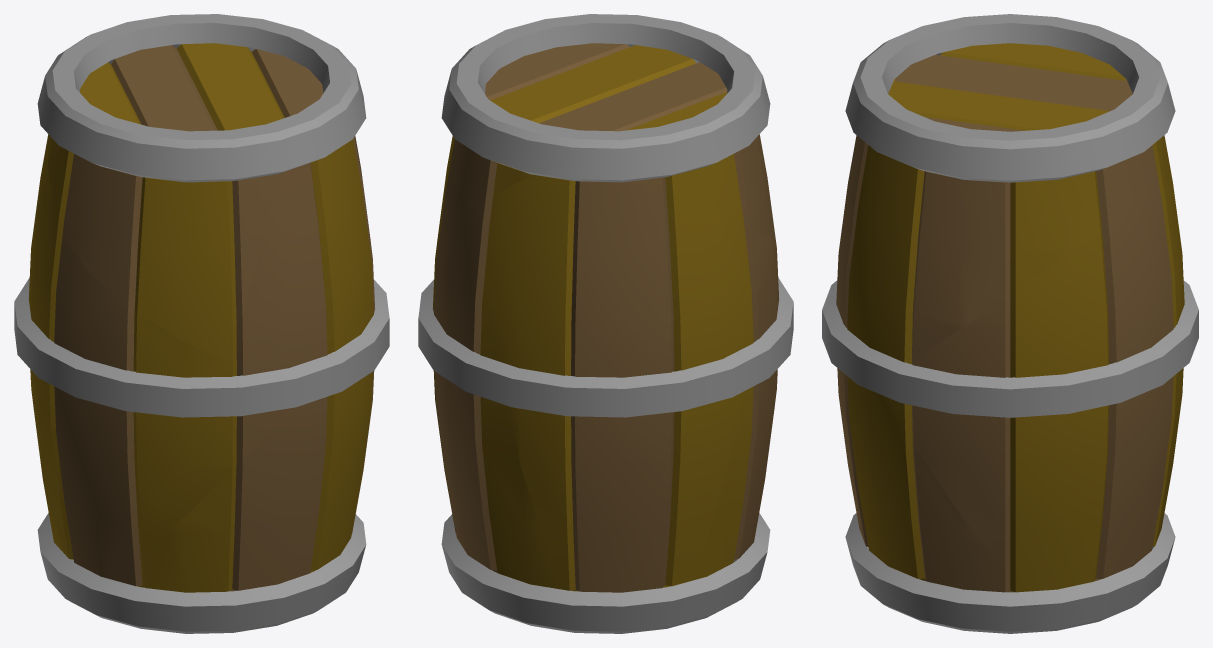
File: WoodBarrel-bkn.FBX
3 renders of one model, left to right at view 1: azimuth 30°, elevation 25°; view 2: azimuth 150°, elevation 25°; view 3: azimuth 270°, elevation 25°, orthographic.
Parts seen in each view (by area): view 1: WoodBarrel_Part_3, WoodBarrel_Part_2, Object002, WoodBarrel_Part_5, WoodBarrel_Part_7, Object003, Object004, Object006_Part_3, WoodBarrel_Part_4, Object006_Part_2, WoodBarrel_Part_1, Object006_Part_1; view 2: WoodBarrel_Part_1, Object002, WoodBarrel_Part_6, Object003, Object004, WoodBarrel_Part_3, Object006_Part_3, WoodBarrel_Part_2, Object006_Part_2, Object006_Part_1, WoodBarrel_Part_5; view 3: WoodBarrel_Part_6, WoodBarrel_Part_5, Object002, Object003, WoodBarrel_Part_4, Object004, Object006_Part_3, Object006_Part_2, Object006_Part_1, WoodBarrel_Part_1, WoodBarrel_Part_7.
Boxes of the visible parts, x1,y1,x2,y2 form: WoodBarrel_Part_3: (42,254,285,577); WoodBarrel_Part_2: (47,135,278,360); Object002: (37,14,366,182); WoodBarrel_Part_5: (225,136,374,375); WoodBarrel_Part_7: (106,396,328,592); Object003: (14,278,389,417); Object004: (37,513,366,633); Object006_Part_3: (189,49,323,130); WoodBarrel_Part_4: (316,373,373,569); Object006_Part_2: (84,43,254,107); WoodBarrel_Part_1: (28,134,72,484); Object006_Part_1: (79,82,208,131); WoodBarrel_Part_1: (481,177,758,592); Object002: (441,14,770,182); WoodBarrel_Part_6: (432,180,561,589); Object003: (418,278,793,417); Object004: (441,513,770,633); WoodBarrel_Part_3: (691,235,779,580); Object006_Part_3: (485,43,696,100); WoodBarrel_Part_2: (517,89,775,235); Object006_Part_2: (490,93,639,131); Object006_Part_1: (639,62,727,128); WoodBarrel_Part_5: (445,136,518,205); WoodBarrel_Part_6: (889,189,1182,591); WoodBarrel_Part_5: (836,135,1160,362); Object002: (845,14,1175,182); Object003: (822,280,1198,417); WoodBarrel_Part_4: (847,377,1025,592); Object004: (845,513,1175,633); Object006_Part_3: (888,77,1060,131); Object006_Part_2: (990,58,1132,126); Object006_Part_1: (896,43,1094,83); WoodBarrel_Part_1: (1126,79,1184,398); WoodBarrel_Part_7: (837,368,868,546).
Size of the model in its own units: 86.79 by 125 by 86.79.
